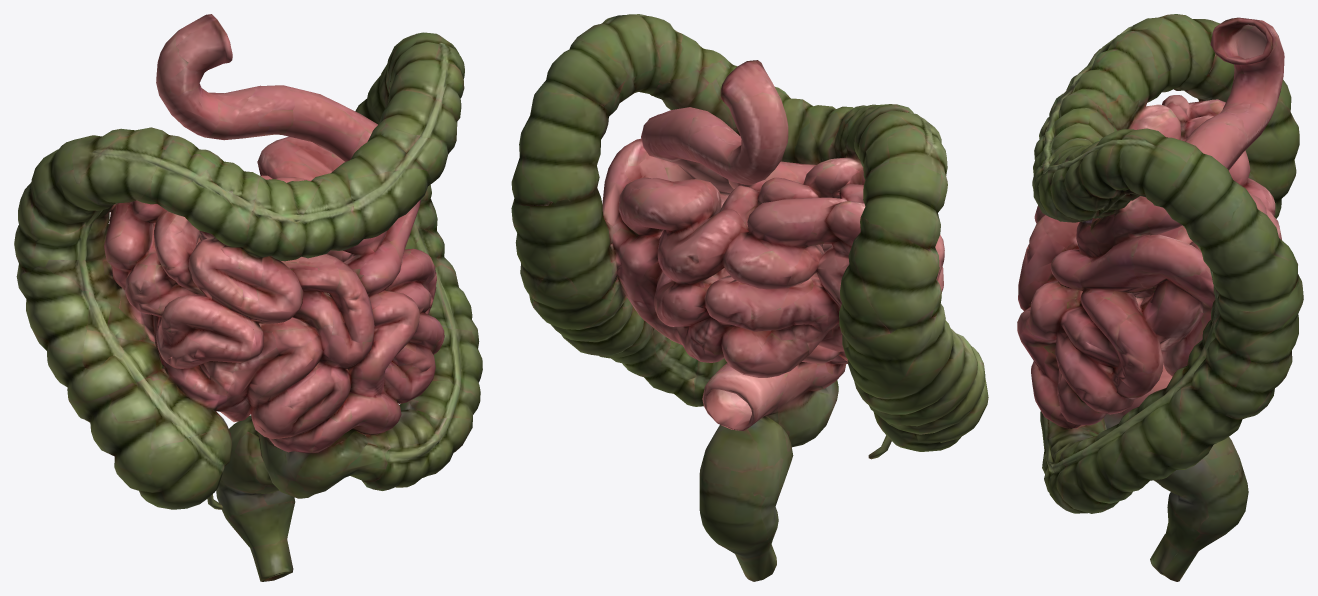
The model's file is gut.glb.
3 views of the same model, side by side, from view 1: azimuth 30°, elevation 25°; view 2: azimuth 150°, elevation 25°; view 3: azimuth 270°, elevation 25° (orthographic).
Size of the model in its own units: 1.5 by 1.89 by 0.8967.
Materials: 1 (1 with a texture image).
